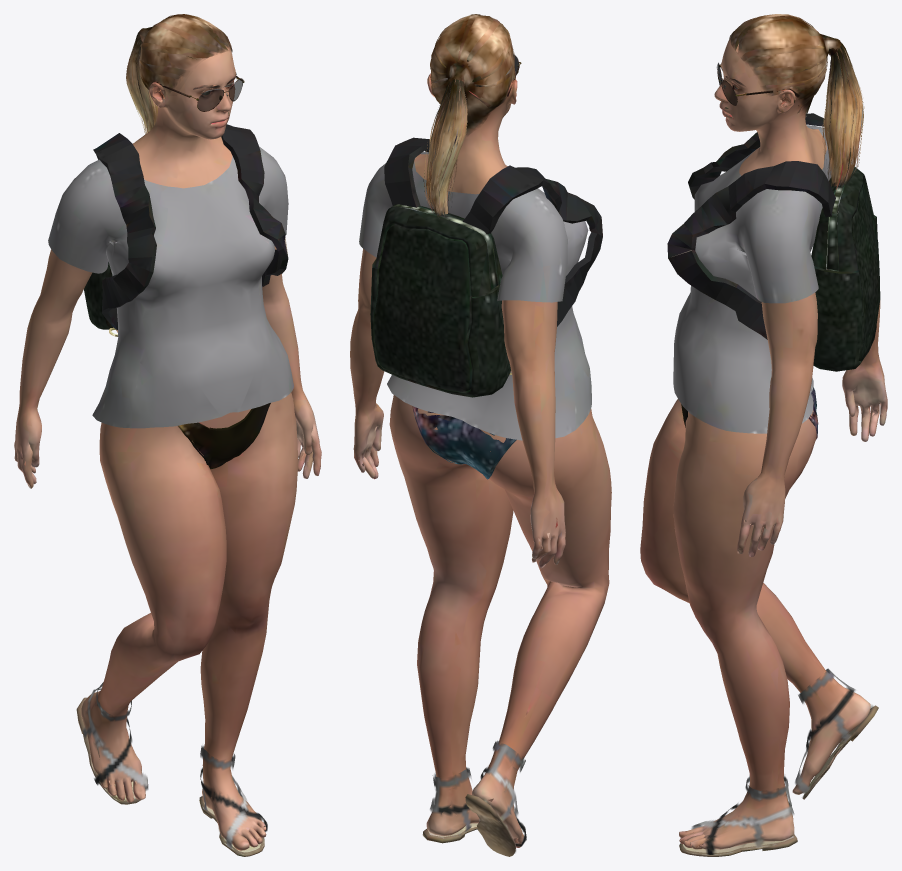
3 renders of one model, left to right at view 1: azimuth 30°, elevation 25°; view 2: azimuth 150°, elevation 25°; view 3: azimuth 270°, elevation 25°, orthographic. The views are drawn at different scales.
Visible parts, largest first — view 1: p03374; view 2: p03374; view 3: p03374.
Part boxes in pixels (bbox=[...]): p03374: bbox=[14, 14, 321, 856]; p03374: bbox=[350, 14, 611, 856]; p03374: bbox=[640, 14, 887, 856].
Size of the model in its own units: 0.5123 by 1.61 by 0.4388.
Materials: 1 (1 with a texture image).
